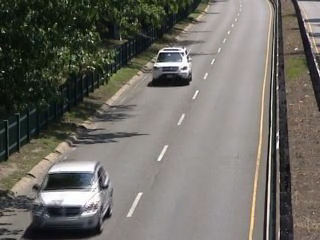car: (27, 157, 116, 238), (147, 44, 197, 90)
